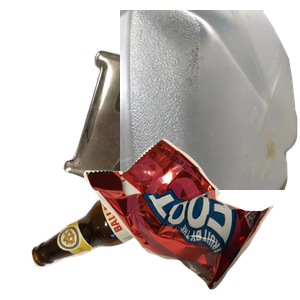glass: (29, 150, 238, 300)
metal: (60, 47, 300, 227)
plastic: (120, 10, 300, 190)
trash: (81, 136, 300, 300)
